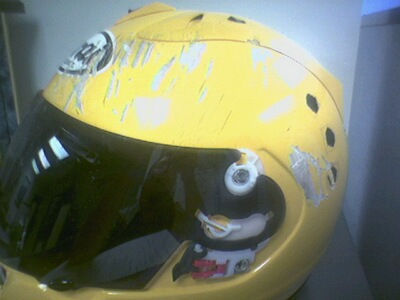helmet: (28, 22, 353, 298)
